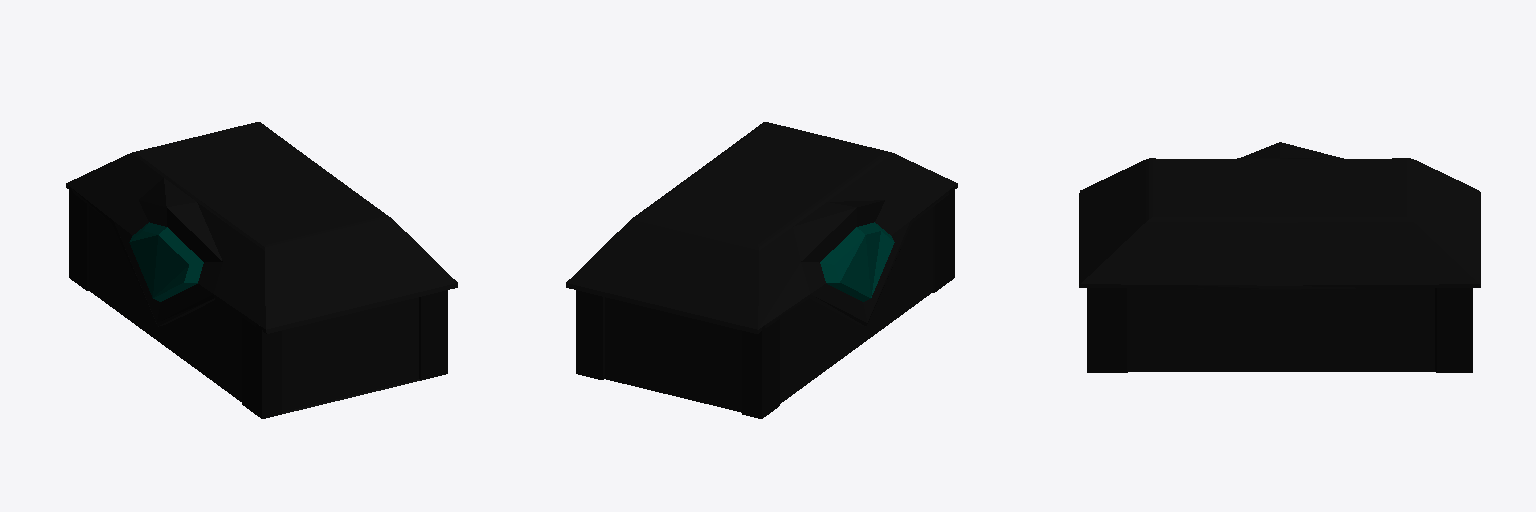
The model's file is Chest_Blockout.obj.
3 renders of one model, left to right at view 1: azimuth 30°, elevation 25°; view 2: azimuth 150°, elevation 25°; view 3: azimuth 270°, elevation 25°, orthographic.
Parts seen in each view (by area): view 1: Chest pCube25, Chest pCube24; view 2: Chest pCube25, Chest pCube24; view 3: Chest pCube25, Chest pCube24.
Boxes of the visible parts, box(x1,y1,x2,y2) form: Chest pCube25: box(66, 122, 457, 333); Chest pCube24: box(69, 186, 447, 418); Chest pCube25: box(566, 122, 957, 333); Chest pCube24: box(576, 186, 954, 418); Chest pCube25: box(1079, 142, 1480, 289); Chest pCube24: box(1087, 288, 1472, 372).
Size of the model in its own units: 175 by 114 by 295.